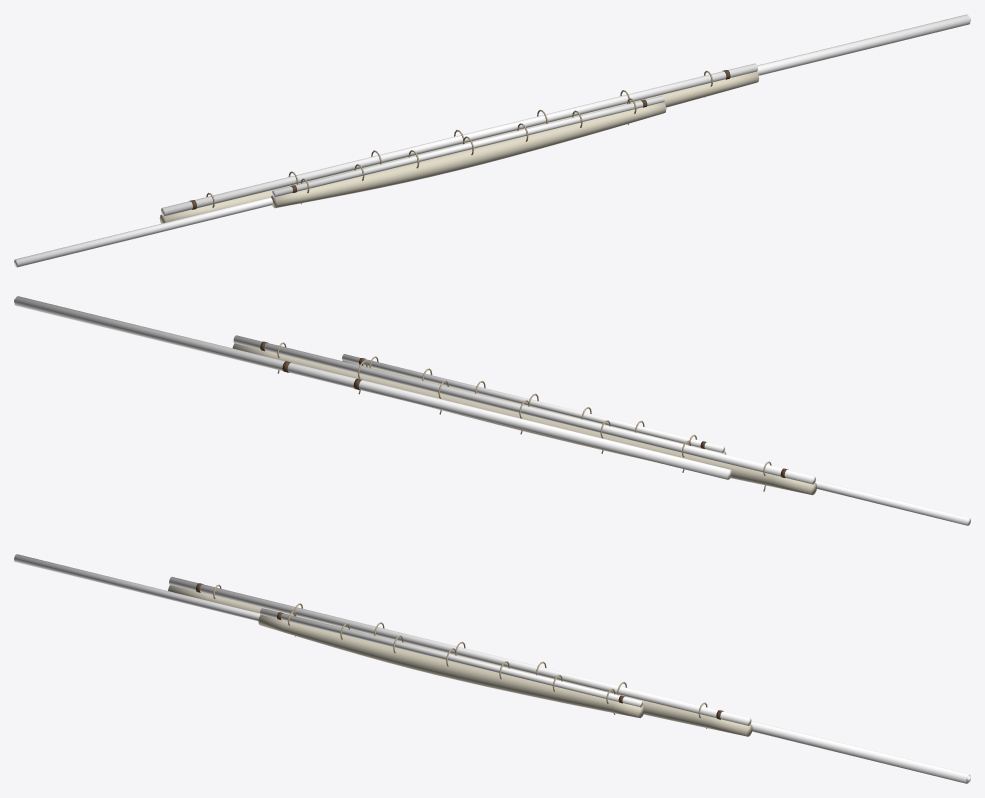
File: rig_stowed.glb
The picture shows the model from 3 angles, top to bottom: view 1: azimuth 30°, elevation 25°; view 2: azimuth 150°, elevation 25°; view 3: azimuth 330°, elevation 25°; orthographic projection. The views are drawn at different scales.
Parts seen in each view (by area): view 1: Rig_Stowed; view 2: Rig_Stowed; view 3: Rig_Stowed.
Part boxes in pixels (x1=…): Rig_Stowed: x1=14, y1=14, x2=970, y2=267; Rig_Stowed: x1=14, y1=296, x2=970, y2=525; Rig_Stowed: x1=14, y1=554, x2=970, y2=783.
Bounding box in the file's own units: 7.45 × 0.2368 × 0.308.
